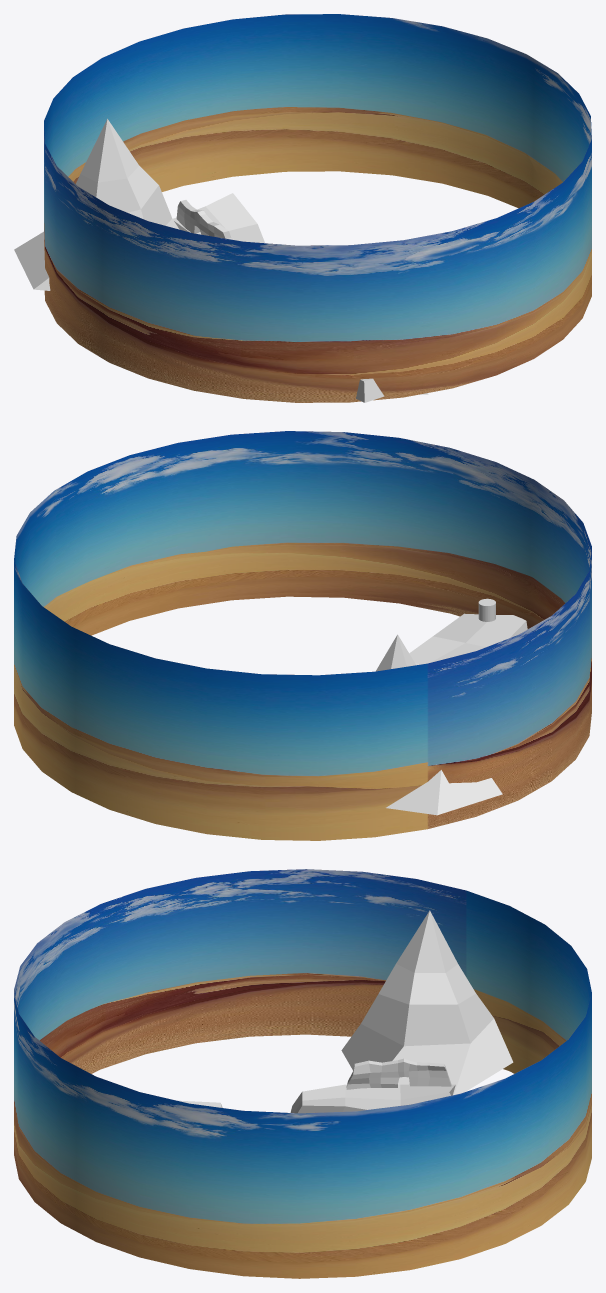
Rendered from Kanny Ridge.glb.
3 views of the same model, one above another, from view 1: azimuth 30°, elevation 25°; view 2: azimuth 150°, elevation 25°; view 3: azimuth 270°, elevation 25° (orthographic). The views are drawn at different scales.
Parts seen in each view (by area): view 1: Sky Ring, Land Ring, Cone, Plane, Cube; view 2: Sky Ring, Land Ring, Cone, Ledge; view 3: Sky Ring, Land Ring, Cone, Plane, Cube.
Boxes of the visible parts, x1=… form: Sky Ring: x1=44, y1=14, x2=591, y2=402; Land Ring: x1=68, y1=107, x2=562, y2=206; Cone: x1=14, y1=119, x2=179, y2=290; Plane: x1=173, y1=193, x2=264, y2=243; Cube: x1=176, y1=200, x2=231, y2=239; Sky Ring: x1=14, y1=431, x2=591, y2=840; Land Ring: x1=43, y1=542, x2=564, y2=633; Cone: x1=376, y1=634, x2=502, y2=815; Ledge: x1=409, y1=613, x2=527, y2=665; Sky Ring: x1=14, y1=869, x2=591, y2=1278; Land Ring: x1=39, y1=972, x2=566, y2=1072; Cone: x1=341, y1=910, x2=513, y2=1095; Plane: x1=290, y1=1084, x2=455, y2=1113; Cube: x1=346, y1=1058, x2=451, y2=1089.
Bounding box in the file's own units: 66.34 × 22.31 × 66.34.
Materials: 3 (2 with a texture image).
